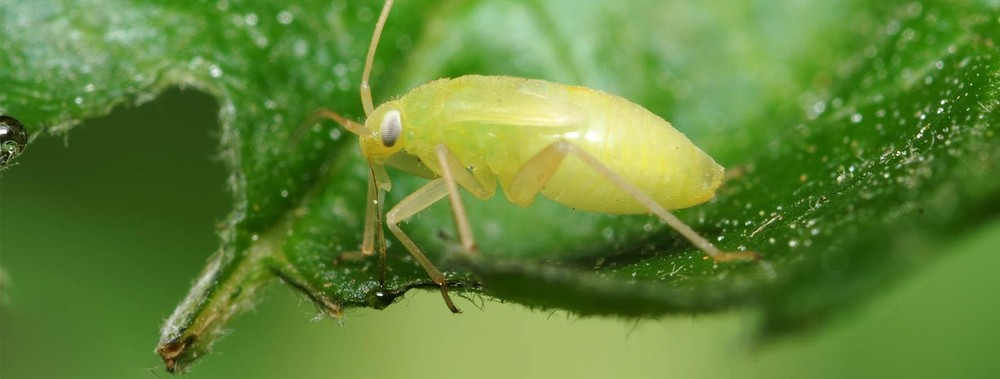Pulgon: (307, 5, 786, 295)
